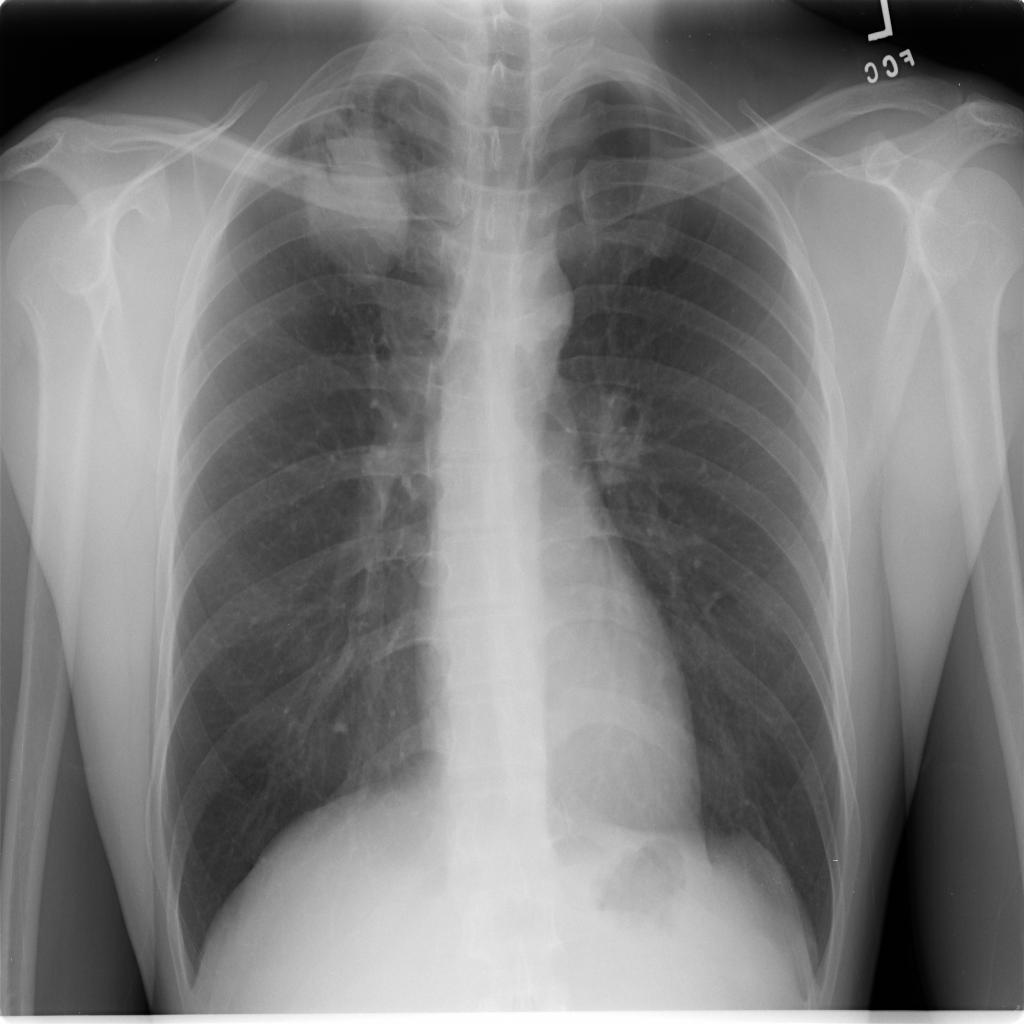Nodule: (88, 262, 119, 307), (88, 315, 115, 353)
